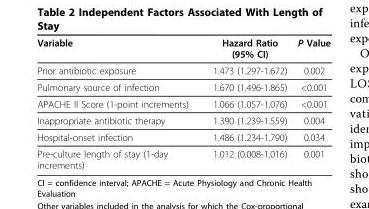table: (36, 36, 329, 170)
table column: (36, 36, 199, 170), (199, 36, 291, 170), (291, 36, 329, 170)
table column header: (36, 36, 329, 61)
table row: (36, 36, 329, 61), (36, 145, 329, 170), (36, 61, 329, 78), (36, 78, 329, 95), (36, 111, 329, 128), (36, 128, 329, 145), (36, 95, 329, 111)
